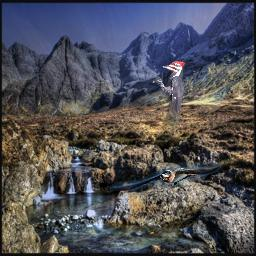Swallow: (110, 162, 221, 191)
Woodpecker: (152, 61, 186, 127)
